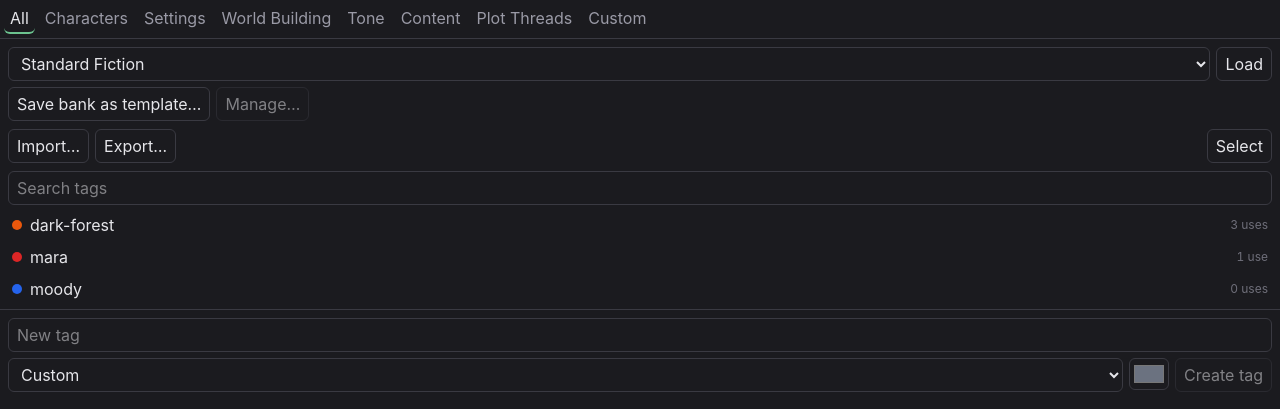
TagsTab (F-4.2) › a category tab and the search filter the list together
Click the tab "Characters".
click(86, 19)  # box [39, 4, 134, 34]
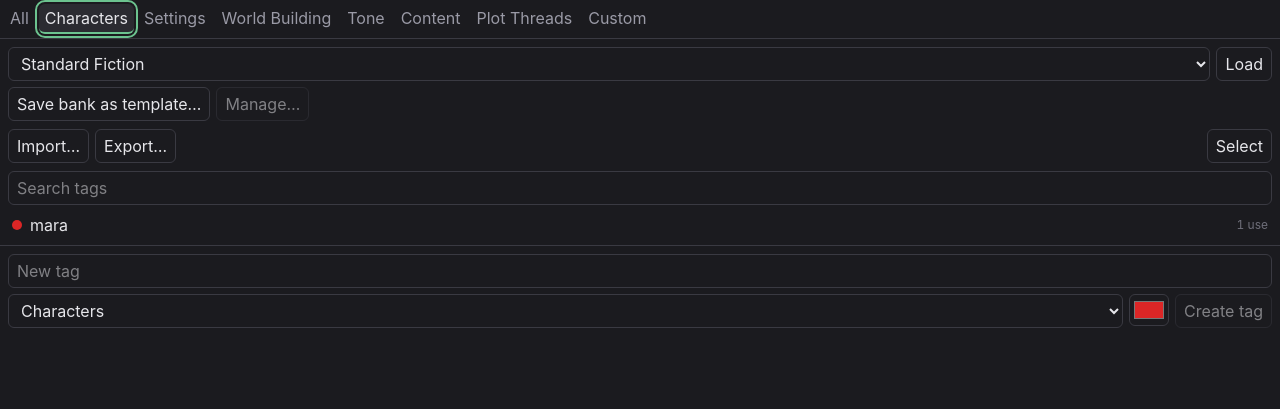
Check: the tab "Characters" is selected, box [39, 4, 134, 34]
Click the tab "All".
click(19, 19)  # box [4, 4, 35, 34]
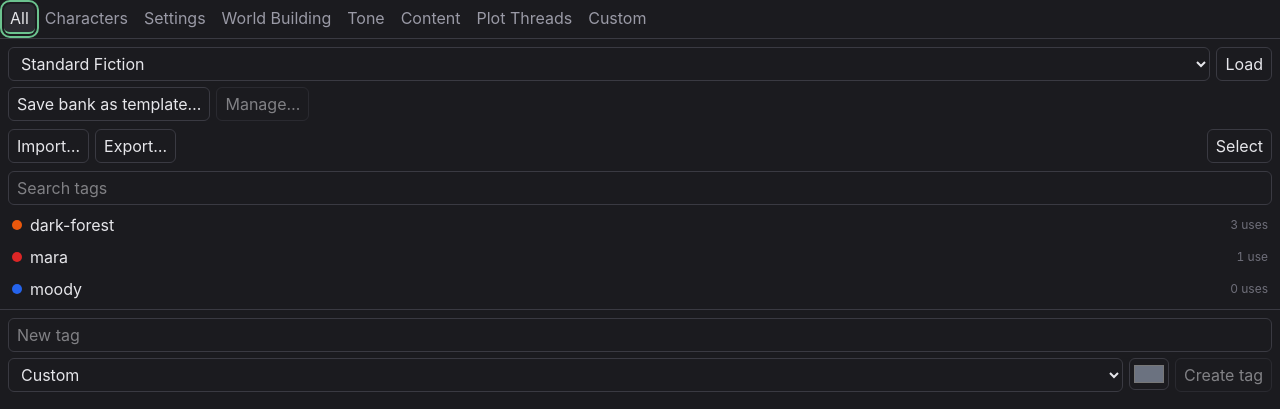
Type "O" into the search field labelled "Search tags".
click(640, 188); type("O")  # box [8, 171, 1272, 205]
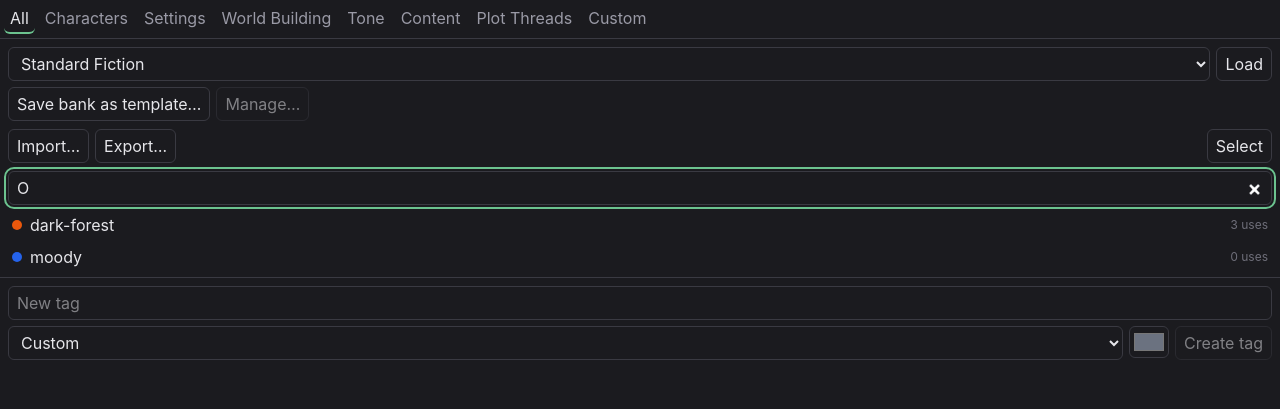
Click the tab "Tone".
click(366, 19)  # box [341, 4, 391, 34]
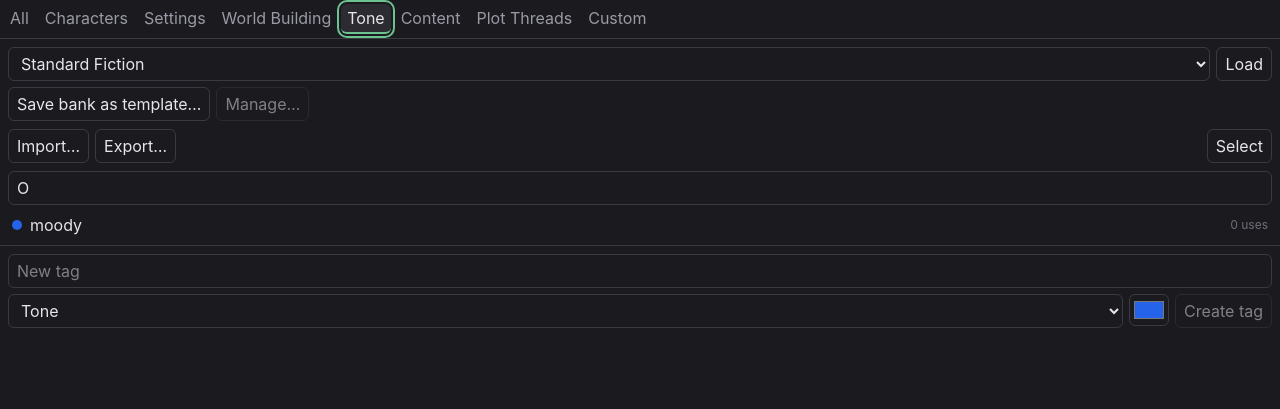
Replace the text in the search field named "Search tags" with "zzz" at (640, 188), box [8, 171, 1272, 205]
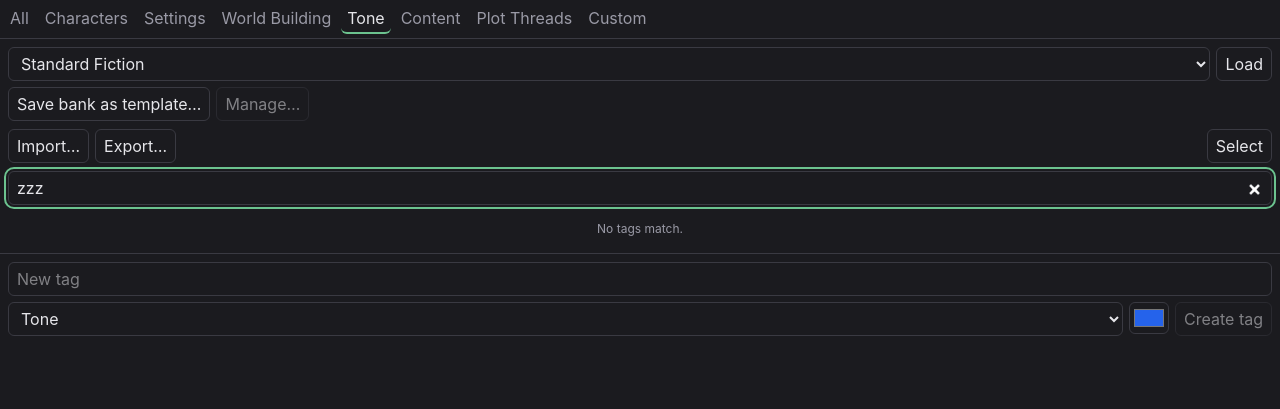
Check: the text "No tags match." is shown, box [597, 221, 683, 236]
